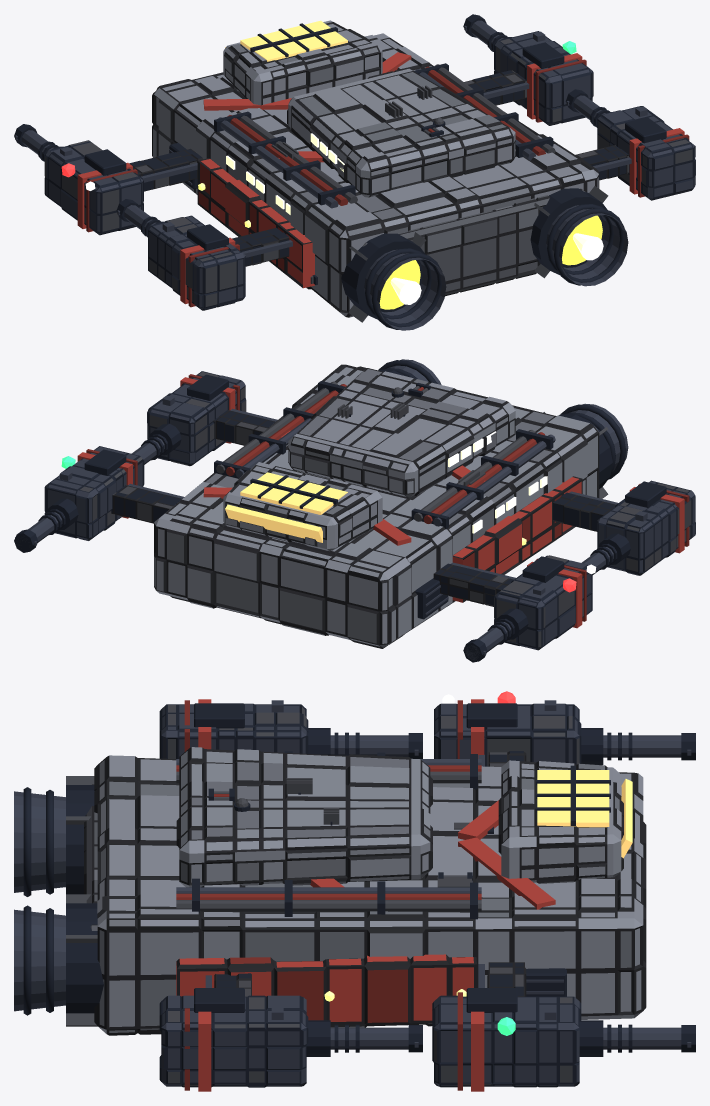
The model's file is bastion.glb.
3 views of the same model, one above another, from view 1: azimuth 30°, elevation 25°; view 2: azimuth 150°, elevation 25°; view 3: azimuth 270°, elevation 25° (orthographic). The views are drawn at different scales.
Parts seen in each view (by area): view 1: bastion_mesh; view 2: bastion_mesh; view 3: bastion_mesh.
Boxes of the visible parts, left/top/right/bottom form: bastion_mesh: left=14, top=14, right=695, bottom=330; bastion_mesh: left=14, top=359, right=695, bottom=662; bastion_mesh: left=14, top=691, right=695, bottom=1091.
Bounding box in the file's own units: 11.94 × 3.05 × 10.31.
